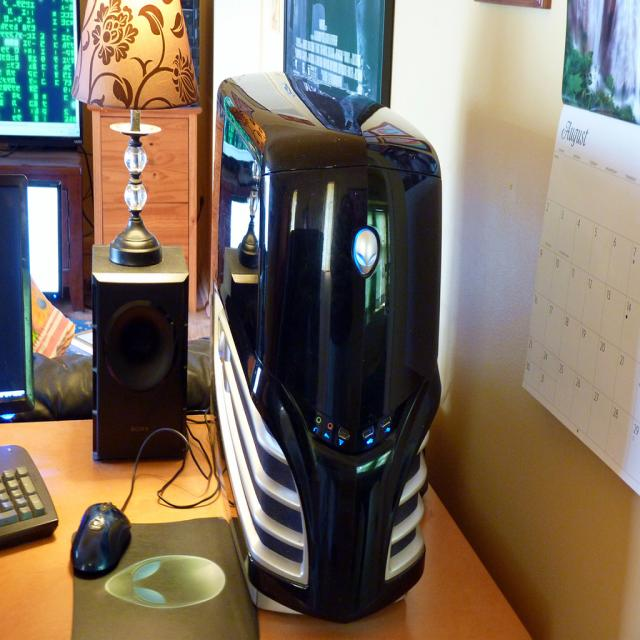Computer-mouse: (69, 503, 132, 575)
